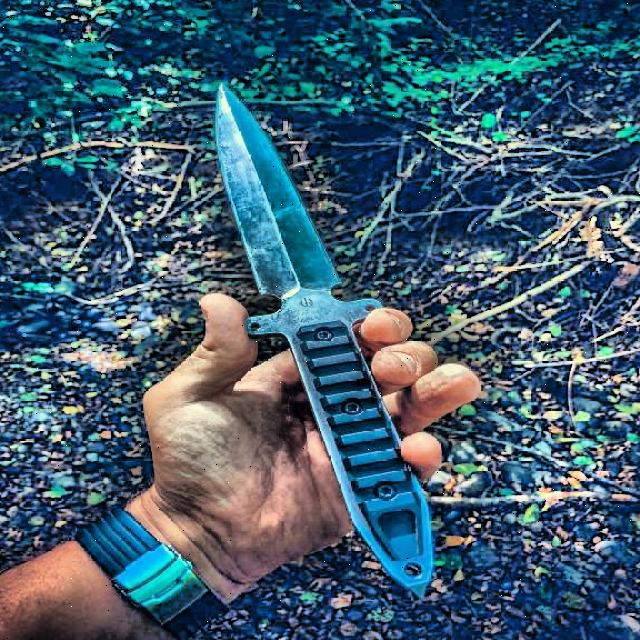knife: (211, 73, 457, 588)
